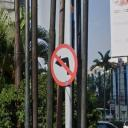NoVirarEsquerda: (50, 44, 78, 86)
